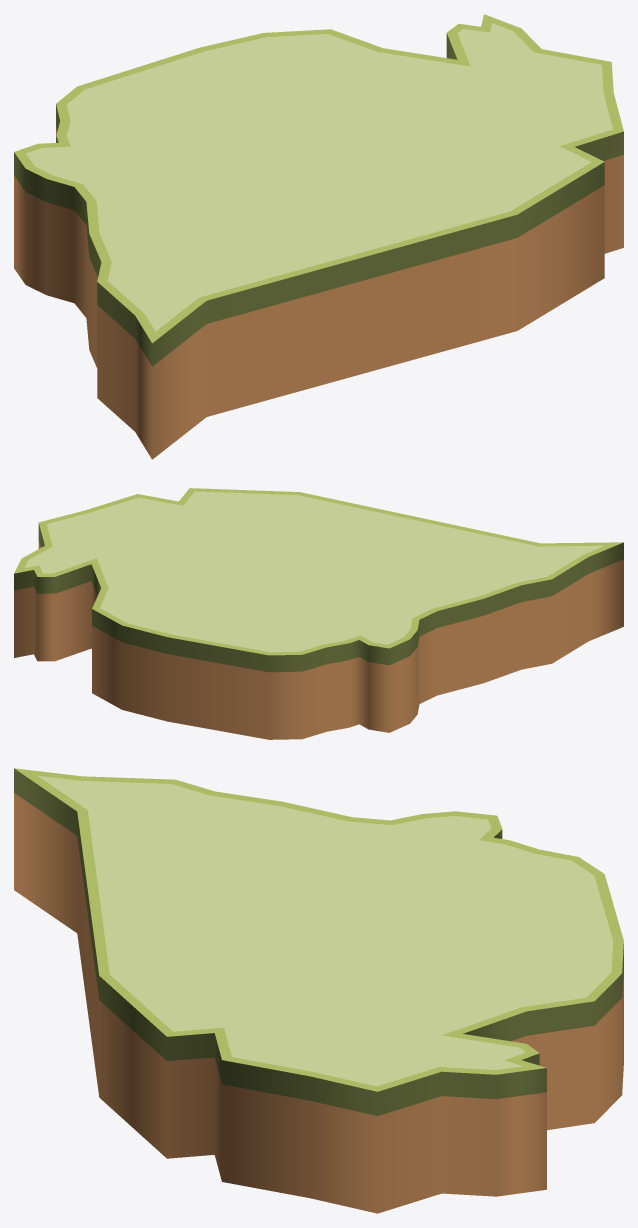
File: Islands1.001.fbx
The picture shows the model from 3 angles, top to bottom: view 1: azimuth 30°, elevation 25°; view 2: azimuth 150°, elevation 25°; view 3: azimuth 270°, elevation 25°; orthographic projection. The views are drawn at different scales.
Visible parts, largest first — view 1: Island1.001; view 2: Island1.001; view 3: Island1.001.
Part boxes in pixels (x1,y1,x2,y2): Island1.001: [14, 14, 623, 459]; Island1.001: [14, 488, 623, 739]; Island1.001: [14, 768, 623, 1213].
Bounding box in the file's own units: 142 × 25 × 113.
